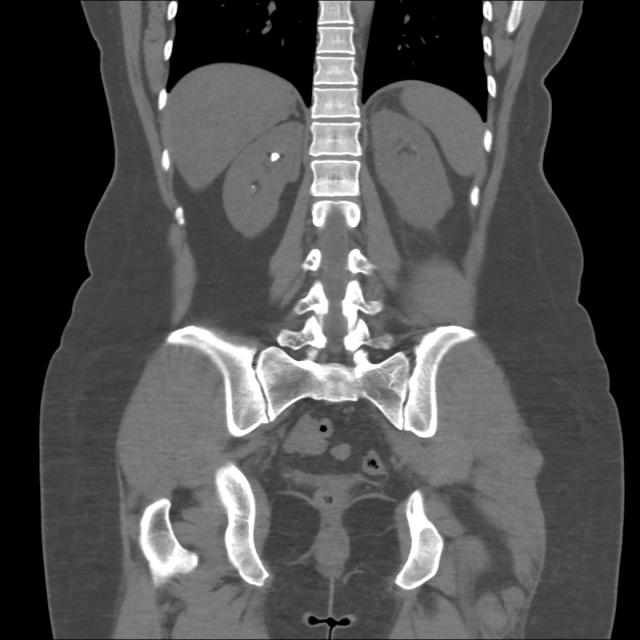kidneystone: (268, 151, 284, 162)
